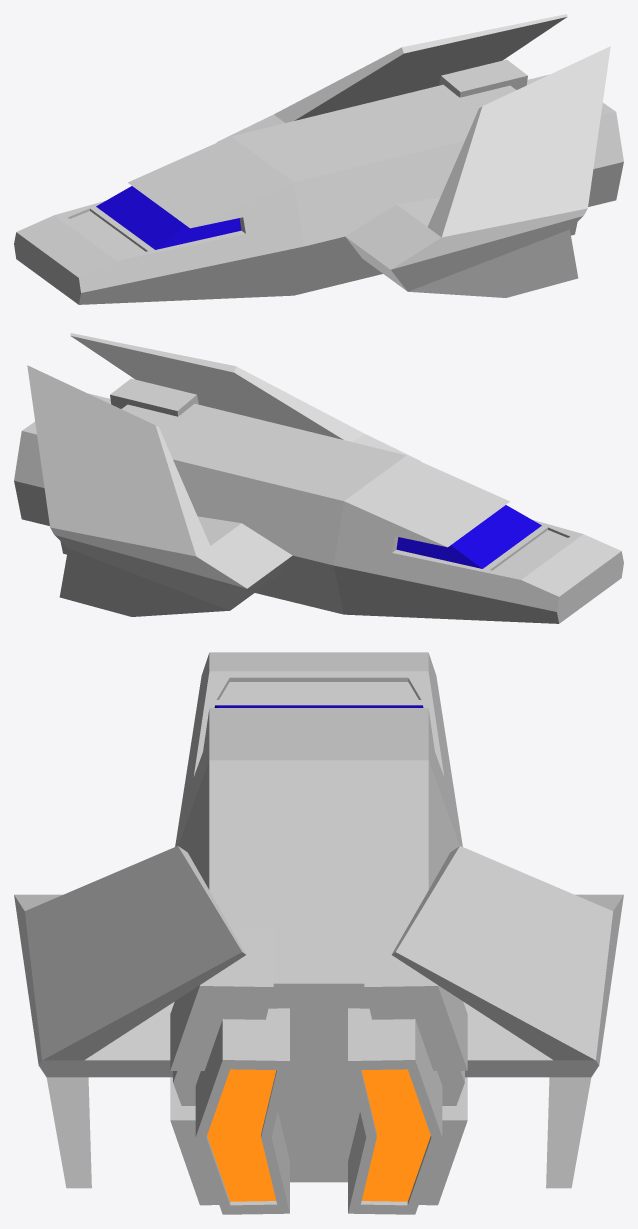
The model's file is 231019a_Spaceship.glb.
The picture shows the model from 3 angles, top to bottom: view 1: azimuth 30°, elevation 25°; view 2: azimuth 150°, elevation 25°; view 3: azimuth 270°, elevation 25°; orthographic projection. The views are drawn at different scales.
Visible parts, largest first — view 1: Spaceship; view 2: Spaceship; view 3: Spaceship.
Boxes of the visible parts, bbox=[...] form: Spaceship: bbox=[14, 14, 623, 304]; Spaceship: bbox=[14, 333, 623, 623]; Spaceship: bbox=[14, 652, 623, 1214].
Size of the model in its own units: 38.49 by 11.92 by 21.46.
